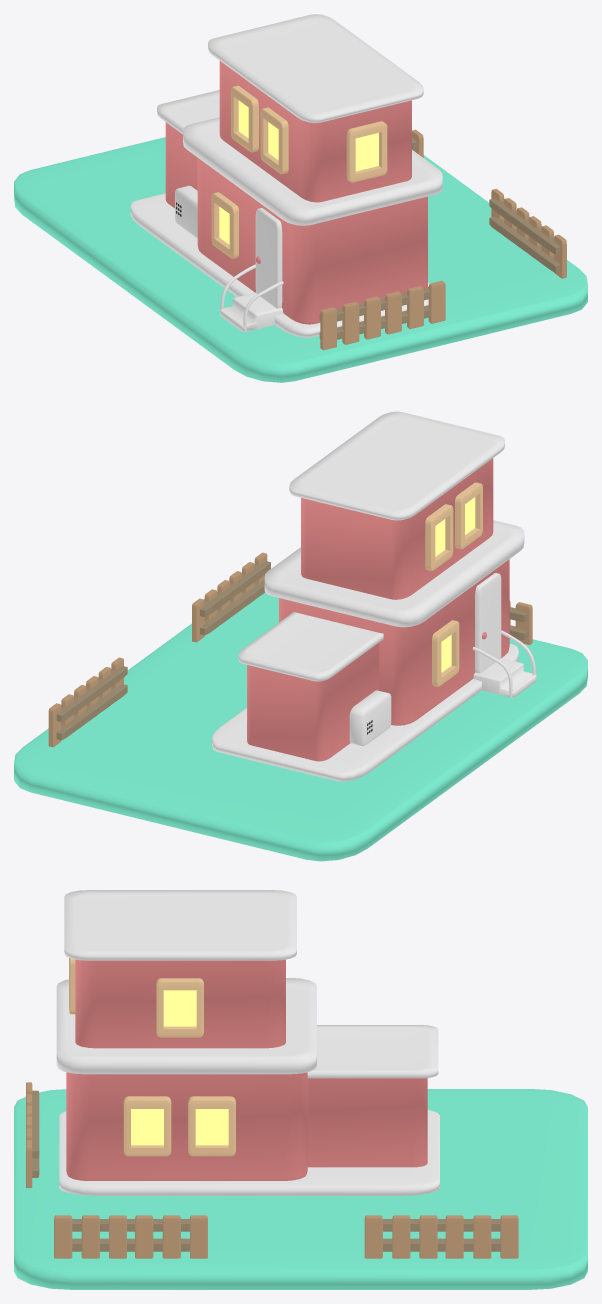
3 views of the same model, one above another, from view 1: azimuth 30°, elevation 25°; view 2: azimuth 150°, elevation 25°; view 3: azimuth 270°, elevation 25° (orthographic). The views are drawn at different scales.
Visible parts, largest first — view 1: Roundcube.010, Roundcube, Roundcube.001, Roundcube.009, Roundcube.002, Roundcube.003, Roundcube.005, Roundcube.004, Roundcube.006, Roundcube.007, Roundcube.008, Circle.001 (+9 smaller); view 2: Roundcube.010, Roundcube.001, Roundcube, Roundcube.002, Roundcube.009, Roundcube.003, Circle.001, Roundcube.006, Roundcube.004, Roundcube.007, Roundcube.008, Roundcube.027 (+3 smaller); view 3: Roundcube.010, Roundcube.001, Roundcube, Roundcube.002, Roundcube.009, Roundcube.035, Roundcube.036, Roundcube.037, Roundcube.025, Roundcube.020, Roundcube.034, Roundcube.033 (+13 smaller).
Part boxes in pixels (left/top/right/bottom): Roundcube.010: left=14, top=137, right=587, bottom=382; Roundcube: left=183, top=117, right=442, bottom=324; Roundcube.001: left=208, top=14, right=423, bottom=202; Roundcube.009: left=130, top=193, right=429, bottom=337; Roundcube.002: left=157, top=90, right=219, bottom=208; Roundcube.003: left=255, top=208, right=282, bottom=308; Roundcube.005: left=346, top=121, right=387, bottom=182; Roundcube.004: left=260, top=107, right=288, bottom=174; Roundcube.006: left=231, top=85, right=258, bottom=152; Roundcube.007: left=211, top=192, right=238, bottom=258; Roundcube.008: left=220, top=292, right=283, bottom=332; Circle.001: left=175, top=185, right=197, bottom=238; Roundcube.010: left=14, top=592, right=587, bottom=861; Roundcube.001: left=289, top=411, right=504, bottom=599; Roundcube: left=264, top=520, right=524, bottom=725; Roundcube.002: left=238, top=612, right=383, bottom=761; Roundcube.009: left=212, top=643, right=518, bottom=781; Roundcube.003: left=475, top=573, right=501, bottom=673; Circle.001: left=349, top=690, right=391, bottom=745; Roundcube.006: left=425, top=504, right=453, bottom=570; Roundcube.004: left=455, top=482, right=482, bottom=549; Roundcube.007: left=432, top=620, right=459, bottom=686; Roundcube.008: left=473, top=658, right=536, bottom=697; Roundcube.027: left=56, top=684, right=127, bottom=740; Roundcube.010: left=14, top=1089, right=587, bottom=1289; Roundcube.001: left=64, top=890, right=296, bottom=1048; Roundcube: left=56, top=978, right=316, bottom=1180; Roundcube.002: left=307, top=1025, right=438, bottom=1167; Roundcube.009: left=59, top=1109, right=439, bottom=1195; Roundcube.035: left=123, top=1096, right=171, bottom=1156; Roundcube.036: left=188, top=1096, right=235, bottom=1156; Roundcube.037: left=156, top=978, right=203, bottom=1037; Roundcube.025: left=54, top=1215, right=72, bottom=1258; Roundcube.020: left=162, top=1215, right=180, bottom=1258; Roundcube.034: left=445, top=1215, right=463, bottom=1258; Roundcube.033: left=473, top=1215, right=491, bottom=1258.
Size of the model in its own units: 7.54 by 4.96 by 10.04.
